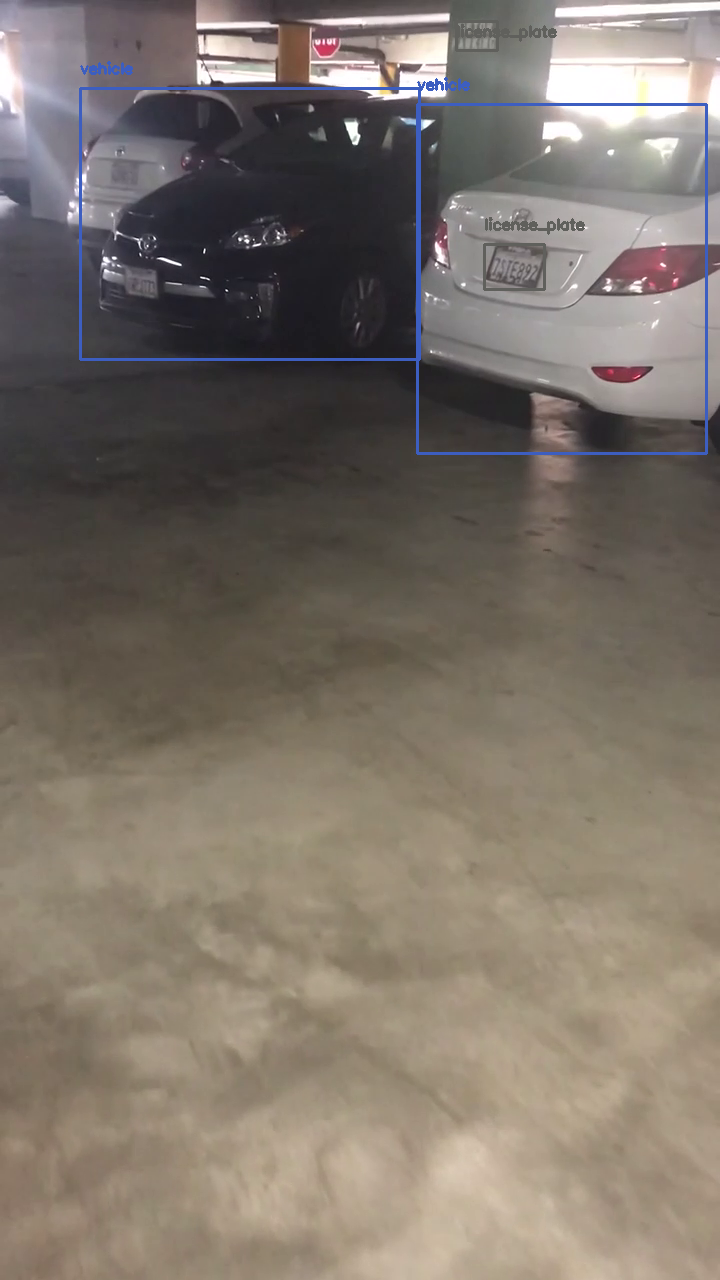license_plate: (484, 244, 544, 289), (456, 21, 497, 50)
vehicle: (417, 104, 706, 453), (80, 88, 419, 359)
